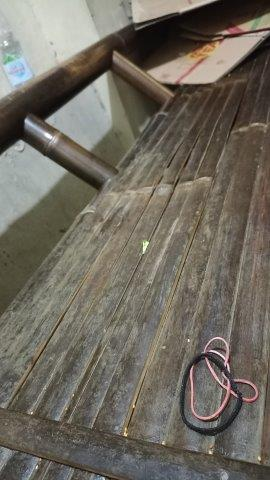kardus: (130, 1, 270, 84)
karet: (180, 337, 259, 434)
